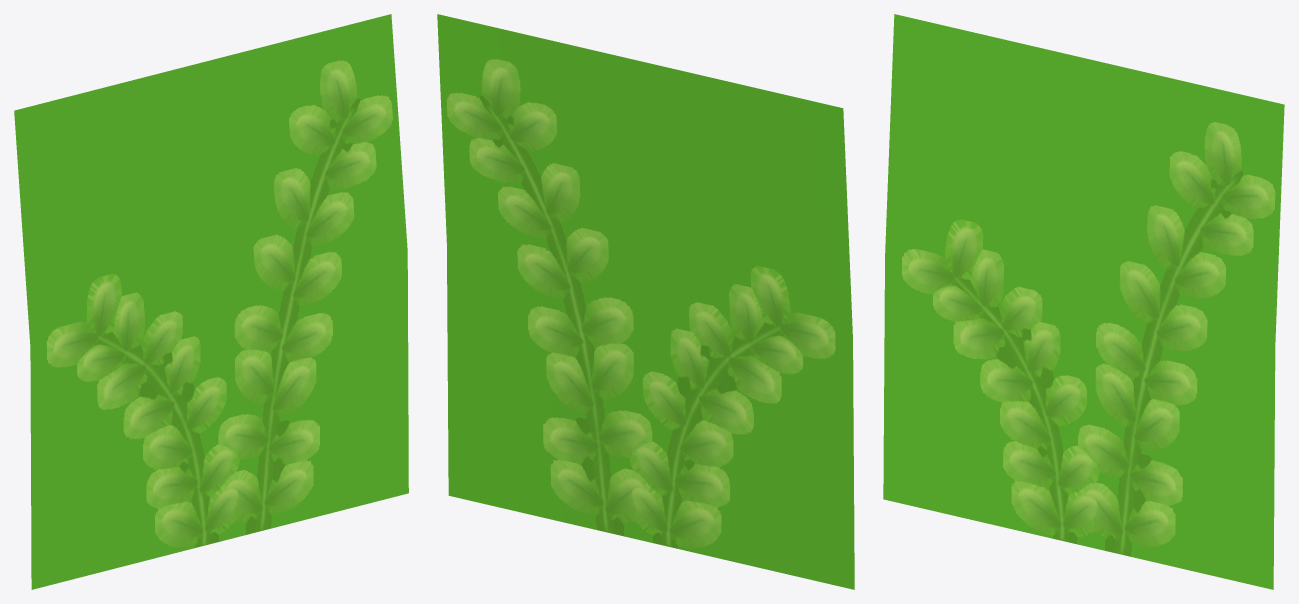
The model's file is grass_02.fbx.
3 renders of one model, left to right at view 1: azimuth 30°, elevation 25°; view 2: azimuth 150°, elevation 25°; view 3: azimuth 330°, elevation 25°, orthographic. The views are drawn at different scales.
Parts seen in each view (by area): view 1: grass_02; view 2: grass_02; view 3: grass_02.
Boxes of the visible parts, left/top/right/bottom form: grass_02: left=14, top=14, right=408, bottom=589; grass_02: left=437, top=14, right=854, bottom=589; grass_02: left=883, top=14, right=1284, bottom=589.
Bounding box in the file's own units: 84.77 × 98.7 × 7.17.
